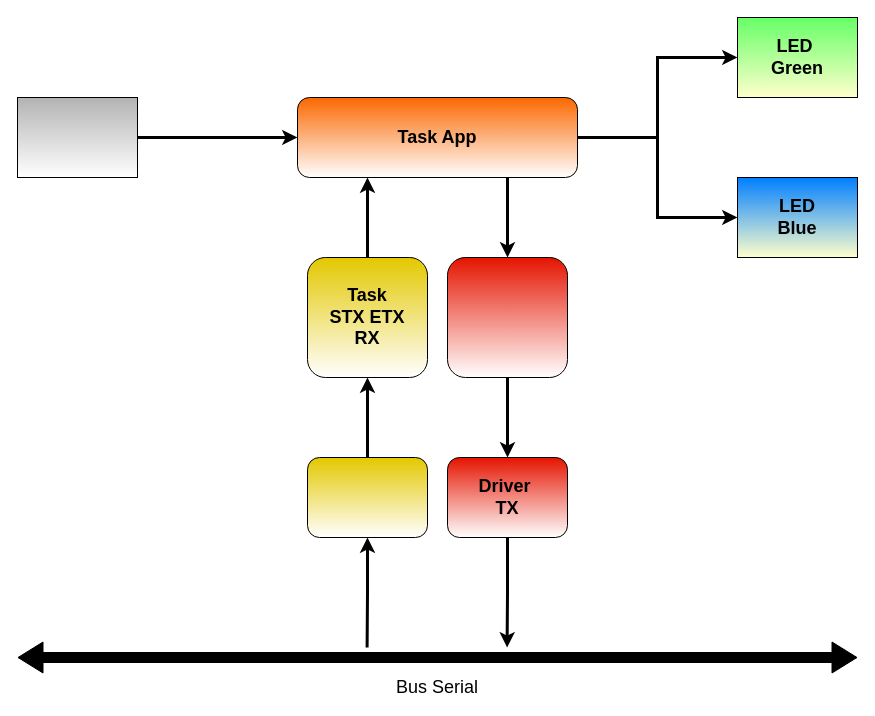
This 875x716 diagram has some shape labels left out. The shapes that lost their labels are listed below. From the top down, each one's box as (x1, y1, x2, y2) in pixels, then its label:
(16, 96, 138, 178): User Button
(446, 256, 568, 378): Task STX ETX TX
(306, 456, 428, 538): Driver RX
